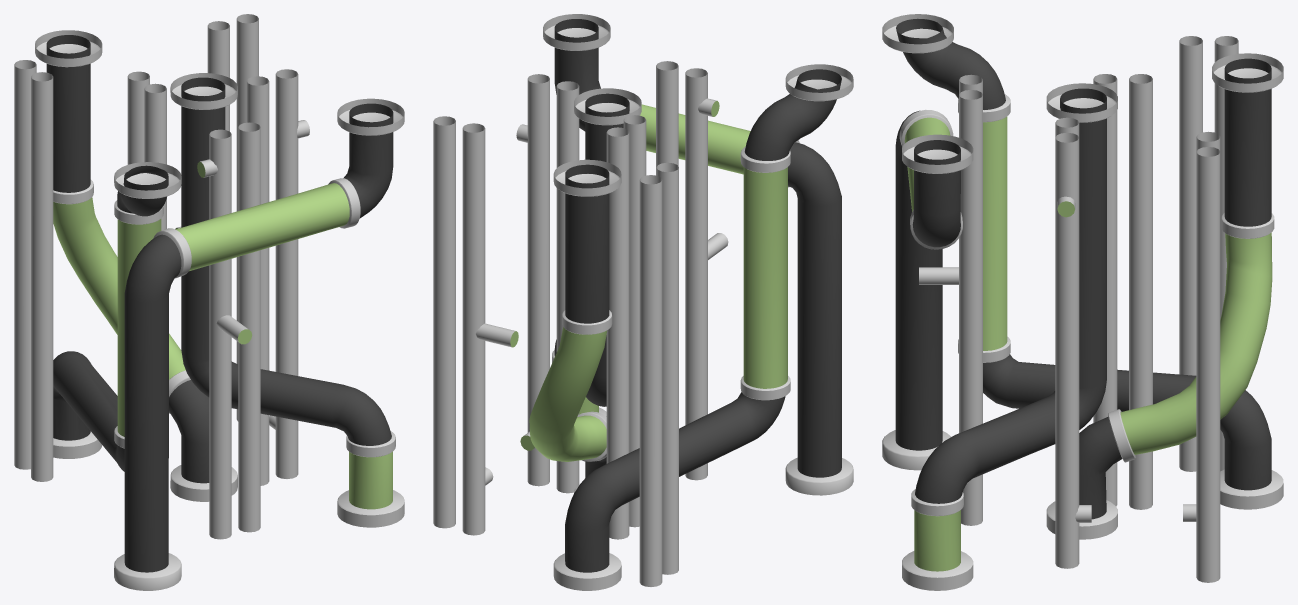
The model's file is pipesSegment_A.fbx.
3 views of the same model, side by side, from view 1: azimuth 30°, elevation 25°; view 2: azimuth 150°, elevation 25°; view 3: azimuth 270°, elevation 25° (orthographic). The views are drawn at different scales.
Visible parts, largest first — view 1: pipesSegment_A; view 2: pipesSegment_A; view 3: pipesSegment_A.
Boxes of the visible parts, left/top/right/bottom form: pipesSegment_A: left=14, top=14, right=404, bottom=590; pipesSegment_A: left=433, top=14, right=853, bottom=590; pipesSegment_A: left=882, top=14, right=1283, bottom=590.
Bounding box in the file's own units: 266 × 351 × 299.
